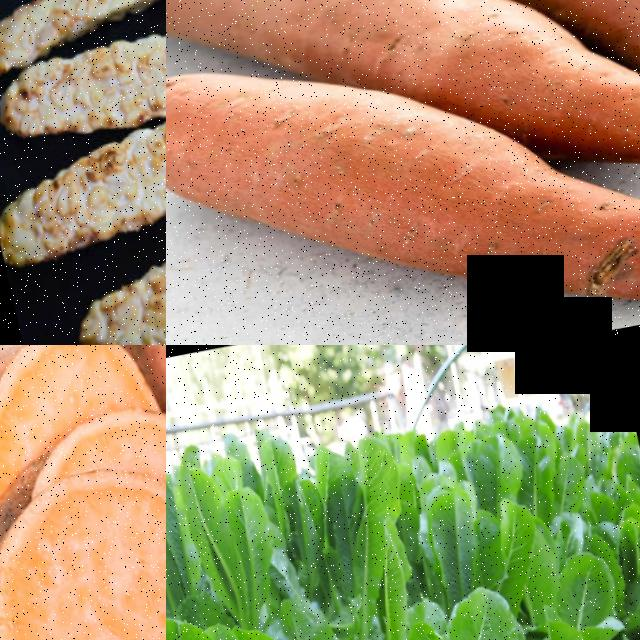spinach: (166, 458, 254, 637), (219, 482, 288, 617), (359, 512, 428, 640), (544, 545, 621, 631), (344, 428, 411, 523), (438, 575, 528, 640), (460, 429, 529, 503), (488, 490, 540, 574), (254, 429, 301, 504)
sweet potato: (166, 33, 448, 319), (433, 81, 640, 345), (166, 0, 481, 103), (0, 446, 166, 640)
tempeh: (0, 18, 166, 156), (8, 115, 166, 243), (55, 232, 166, 345), (0, 0, 166, 57)
